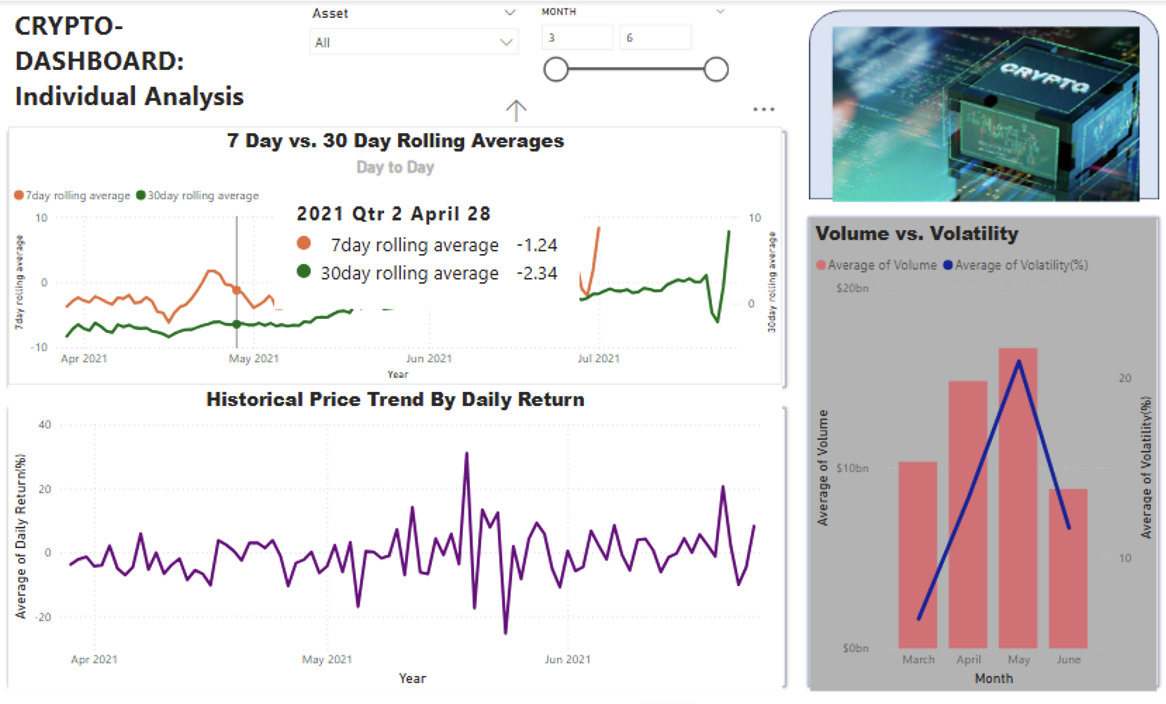

The dashboard page shown, as its layout file describes it:
{"tool":"powerbi","page":{"name":"Page 2","canvas":[1280,720],"ordinal":1},"visuals":[{"type":"lineChart","title":"7 Day vs. 30 Day Rolling Averages","fields":{"Y":["DateTable.7day rolling average"],"Y2":["DateTable.30day rolling average"],"Category":["DateTable.DATE.Variation.Date Hierarchy.Year","DateTable.DATE.Variation.Date Hierarchy.Quarter","DateTable.DATE.Variation.Date Hierarchy.Month","DateTable.DATE.Variation.Date Hierarchy.Day"]},"box":[91,128.2,793.3,265.7],"z":0},{"type":"slicer","fields":{"Values":["DateTable.MONTH"]},"box":[624.2,0,213.6,128.2],"z":1000},{"type":"slicer","fields":{"Values":["Sheet1.Asset"]},"box":[389.3,0,234.8,86.7],"z":2000},{"type":"lineStackedColumnComboChart","title":"Volume vs. Volatility","fields":{"Y":["Avg(Sheet1.Volume)"],"Category":["DateTable.DATE.Variation.Date Hierarchy.Month"],"Y2":["Avg(Sheet1.Volatility(%))"]},"box":[912.5,223.3,355.2,483.5],"z":3000},{"type":"textbox","box":[91.9,0,279.8,127.4],"z":4000},{"type":"lineChart","title":"Historical Price Trend By Daily Return","fields":{"Y":["Avg(Sheet1.Daily Return(%))"],"Category":["DateTable.DATE.Variation.Date Hierarchy.Year","DateTable.DATE.Variation.Date Hierarchy.Quarter","DateTable.DATE.Variation.Date Hierarchy.Month","DateTable.DATE.Variation.Date Hierarchy.Day"]},"box":[91,394,793,313],"z":5000}]}

Visuals, with their boxes on the page's 1280x720 design canvas (x1, y1, x2, y2). These are canvas units, not pixel positions in the 1166x704 screenshot, which may show the page scaled, cropped or inside an application window:
"7 Day vs. 30 Day Rolling Averages" lineChart: <bbox>91, 128, 884, 394</bbox>
slicer - DateTable.MONTH: <bbox>624, 0, 838, 128</bbox>
slicer - Sheet1.Asset: <bbox>389, 0, 624, 87</bbox>
"Volume vs. Volatility" lineStackedColumnComboChart: <bbox>912, 223, 1268, 707</bbox>
textbox: <bbox>92, 0, 372, 127</bbox>
"Historical Price Trend By Daily Return" lineChart: <bbox>91, 394, 884, 707</bbox>
